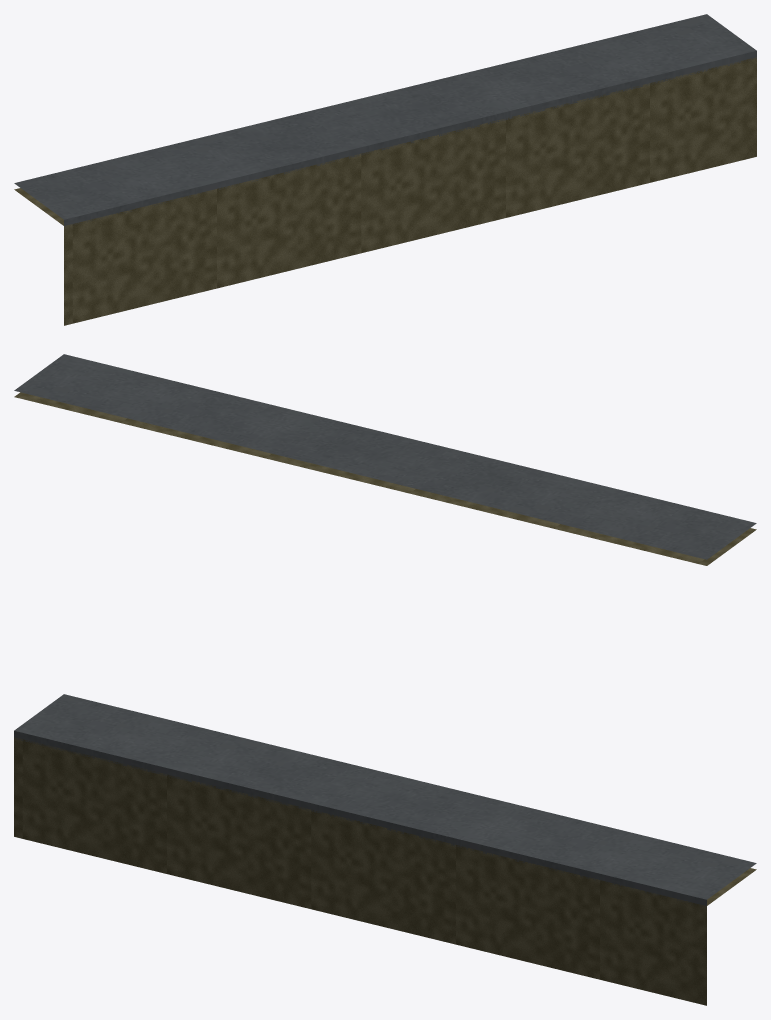
3 renders of one model, top to bottom at view 1: azimuth 30°, elevation 25°; view 2: azimuth 150°, elevation 25°; view 3: azimuth 330°, elevation 25°, orthographic.
Size of the model in its own units: 16 by 2.34 by 2.
2 materials, 2 textured.
